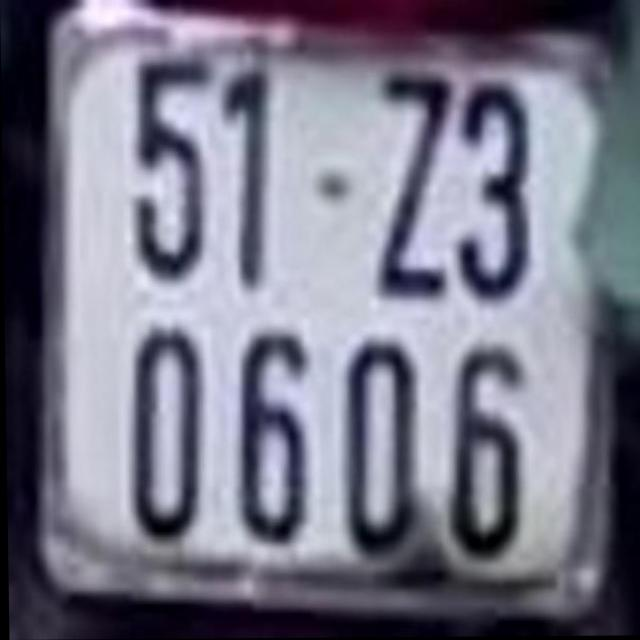0: (342, 340, 417, 554), (130, 331, 203, 538)
1: (219, 71, 277, 289)
3: (460, 81, 528, 305)
5: (132, 61, 215, 282)
6: (240, 331, 309, 543), (455, 346, 521, 558)
Z: (374, 68, 450, 289)
